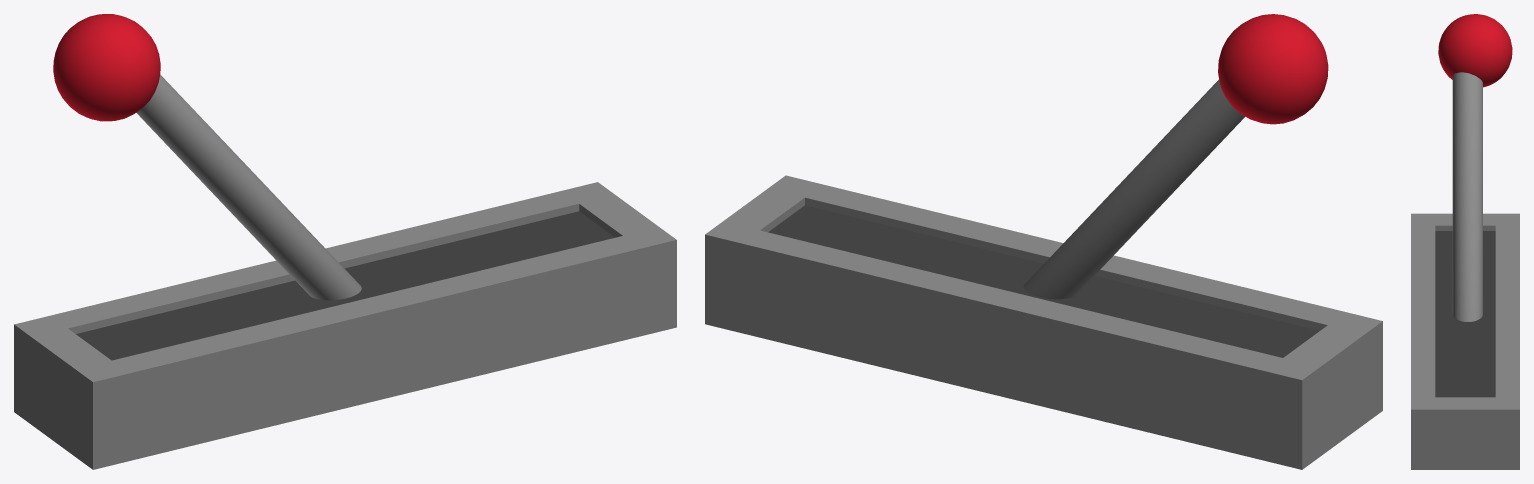
File: lever.fbx
The picture shows the model from 3 angles, left to right: view 1: azimuth 30°, elevation 25°; view 2: azimuth 150°, elevation 25°; view 3: azimuth 270°, elevation 25°; orthographic projection. The views are drawn at different scales.
Parts seen in each view (by area): view 1: Cube, Cylinder, Sphere; view 2: Cube, Cylinder, Sphere; view 3: Cube, Cylinder, Sphere.
Part boxes in pixels (bbox=[...]): Cube: bbox=[14, 182, 676, 469]; Cylinder: bbox=[136, 75, 361, 300]; Sphere: bbox=[53, 14, 160, 121]; Cube: bbox=[705, 175, 1382, 469]; Cylinder: bbox=[1023, 79, 1244, 299]; Sphere: bbox=[1218, 14, 1328, 124]; Cube: bbox=[1411, 213, 1519, 469]; Cylinder: bbox=[1452, 72, 1482, 321]; Sphere: bbox=[1438, 14, 1512, 87].
Bounding box in the file's own units: 760 × 500 × 178.
